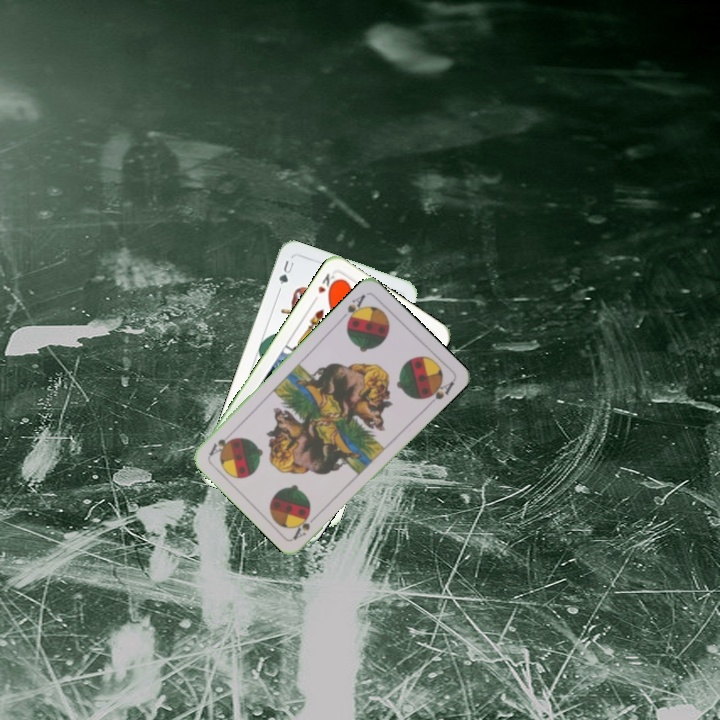GU: (275, 256, 297, 287)
HK: (314, 269, 340, 297)
SA: (337, 290, 368, 327), (289, 509, 322, 542)
